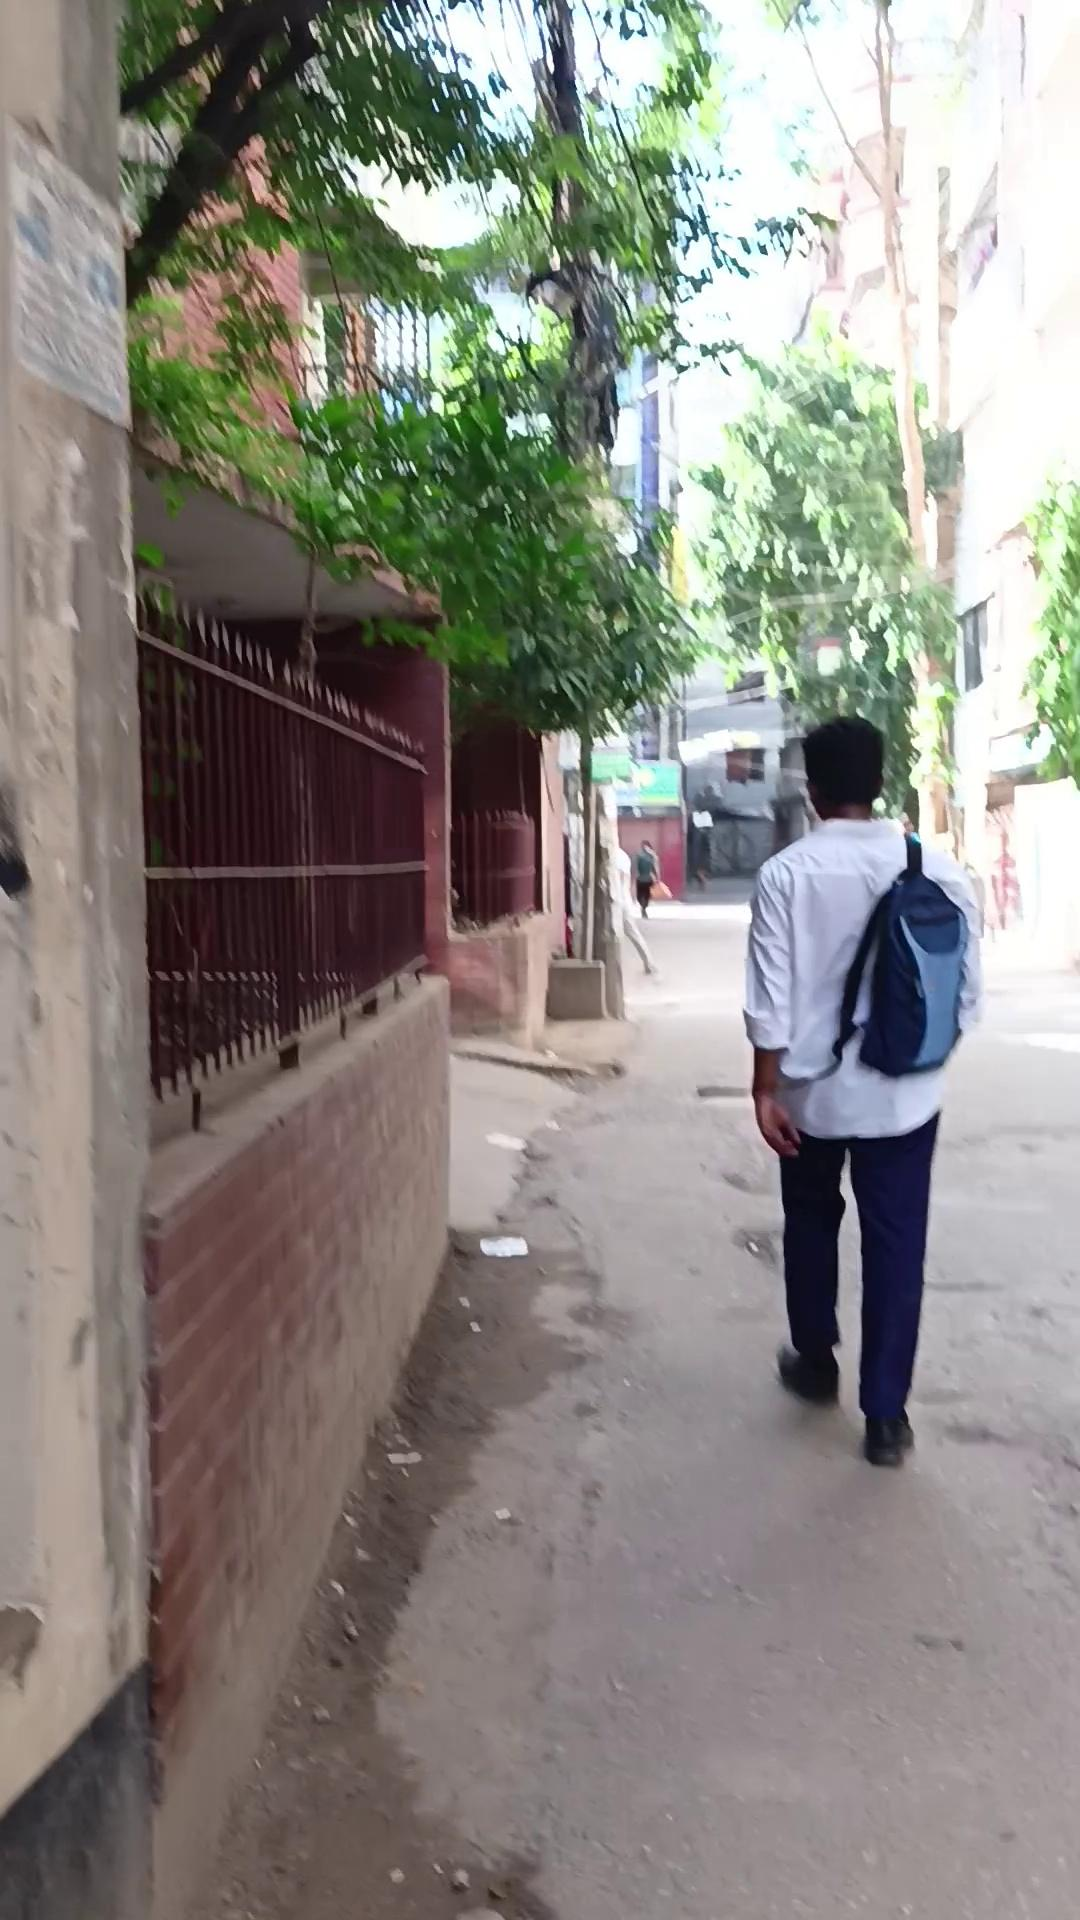Muddy road: (741, 713, 985, 1466), (686, 785, 717, 890), (633, 839, 659, 918)
Obstacle: (524, 1, 626, 1007)
Tree: (140, 956, 454, 1913)
